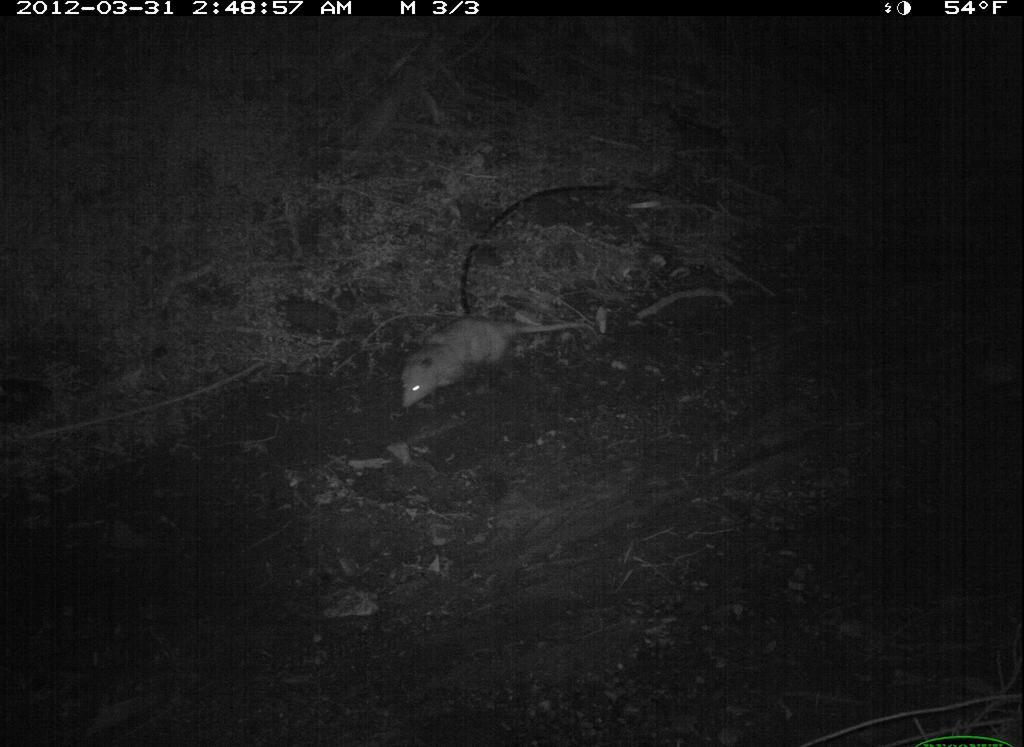opossum: (396, 301, 606, 418)
